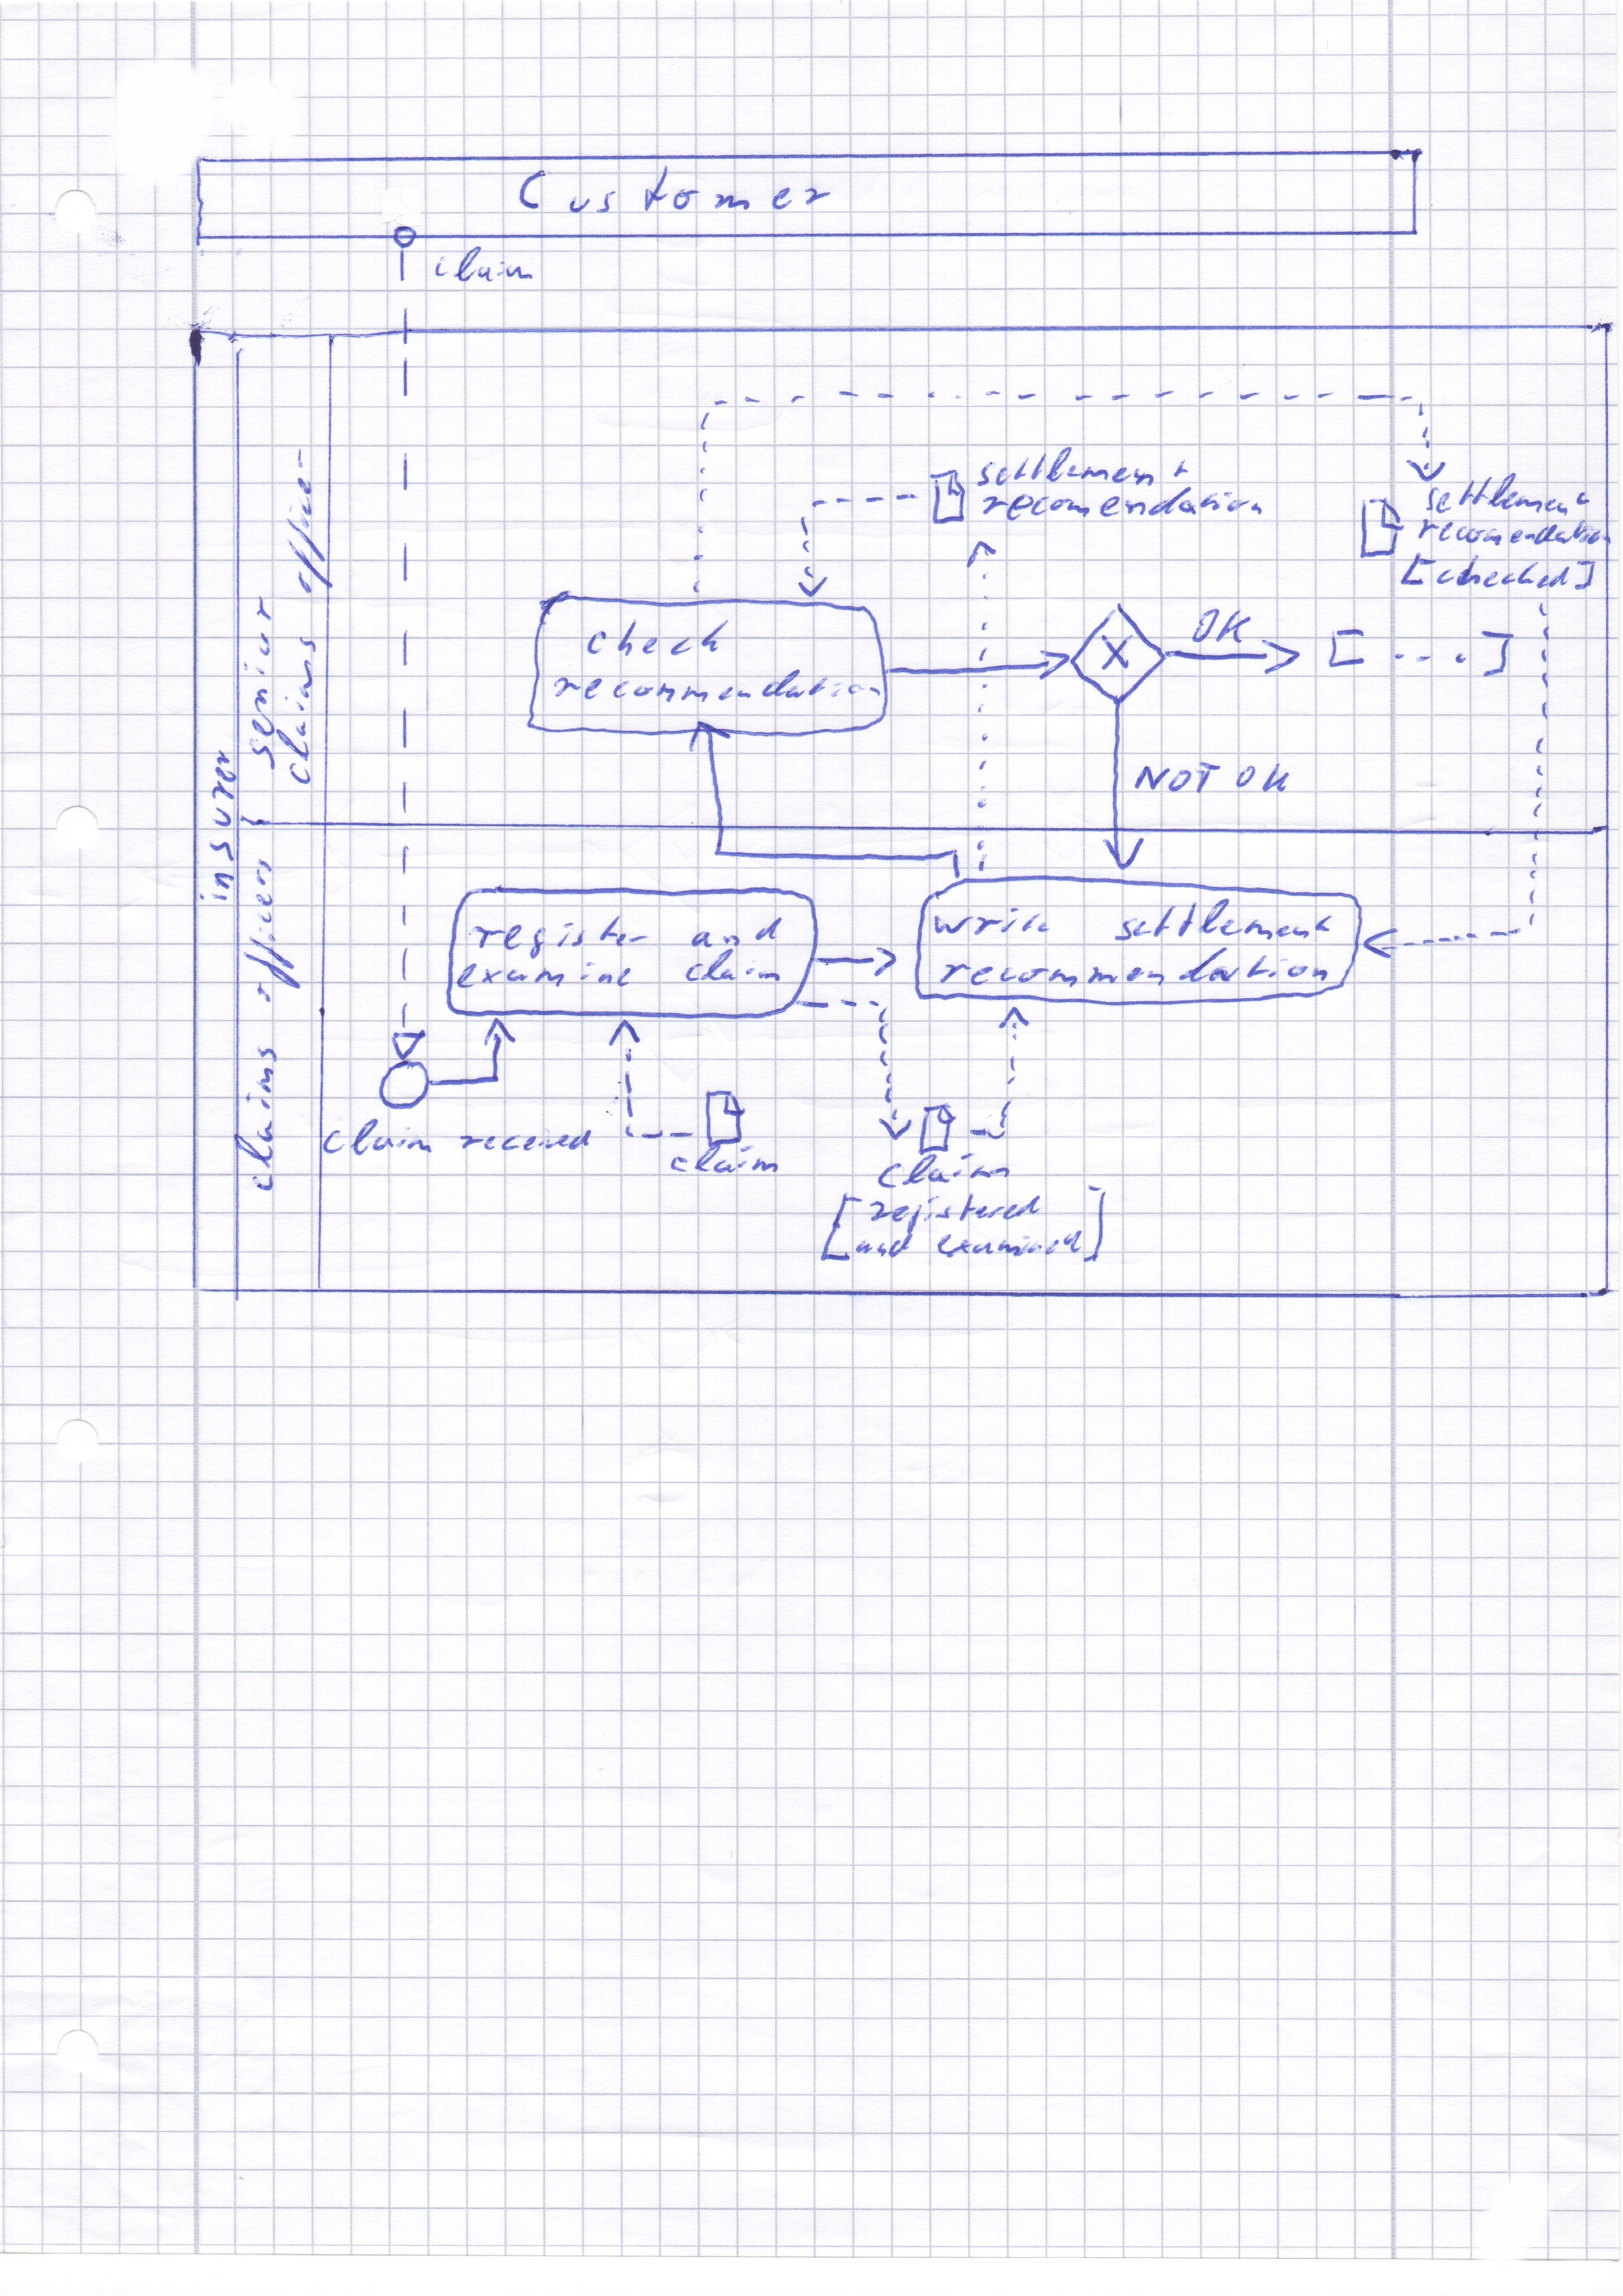Customer: (511, 160, 838, 221)
NOT: (1126, 755, 1226, 799)
OK: (1186, 603, 1254, 648), (1230, 757, 1295, 798)
[: (819, 1191, 861, 1261)
[...]: (1321, 622, 1521, 683)
[checked]: (1395, 546, 1598, 594)
]: (1082, 1182, 1107, 1267)
and: (685, 912, 789, 954), (850, 1228, 917, 1261)
check: (580, 615, 734, 662)
claim: (871, 1149, 1015, 1193), (320, 1114, 436, 1161), (429, 241, 539, 288), (678, 943, 785, 991), (662, 1140, 783, 1180)
claims: (227, 1040, 283, 1198), (269, 629, 321, 791)
examine: (450, 956, 638, 993)
examined: (933, 1226, 1086, 1261)
insurer: (193, 745, 241, 906)
officer: (278, 443, 337, 601)
officers: (235, 852, 307, 1010)
received: (453, 1123, 595, 1158)
recomendation: (975, 481, 1268, 525), (1410, 513, 1616, 552)
recommendation: (929, 942, 1333, 991), (545, 662, 887, 708)
register: (462, 910, 655, 966)
registered: (862, 1189, 1045, 1238)
senior: (237, 588, 281, 775)
settlement: (1105, 894, 1338, 947), (970, 443, 1194, 492), (1419, 467, 1595, 518)
write: (924, 901, 1057, 940)
